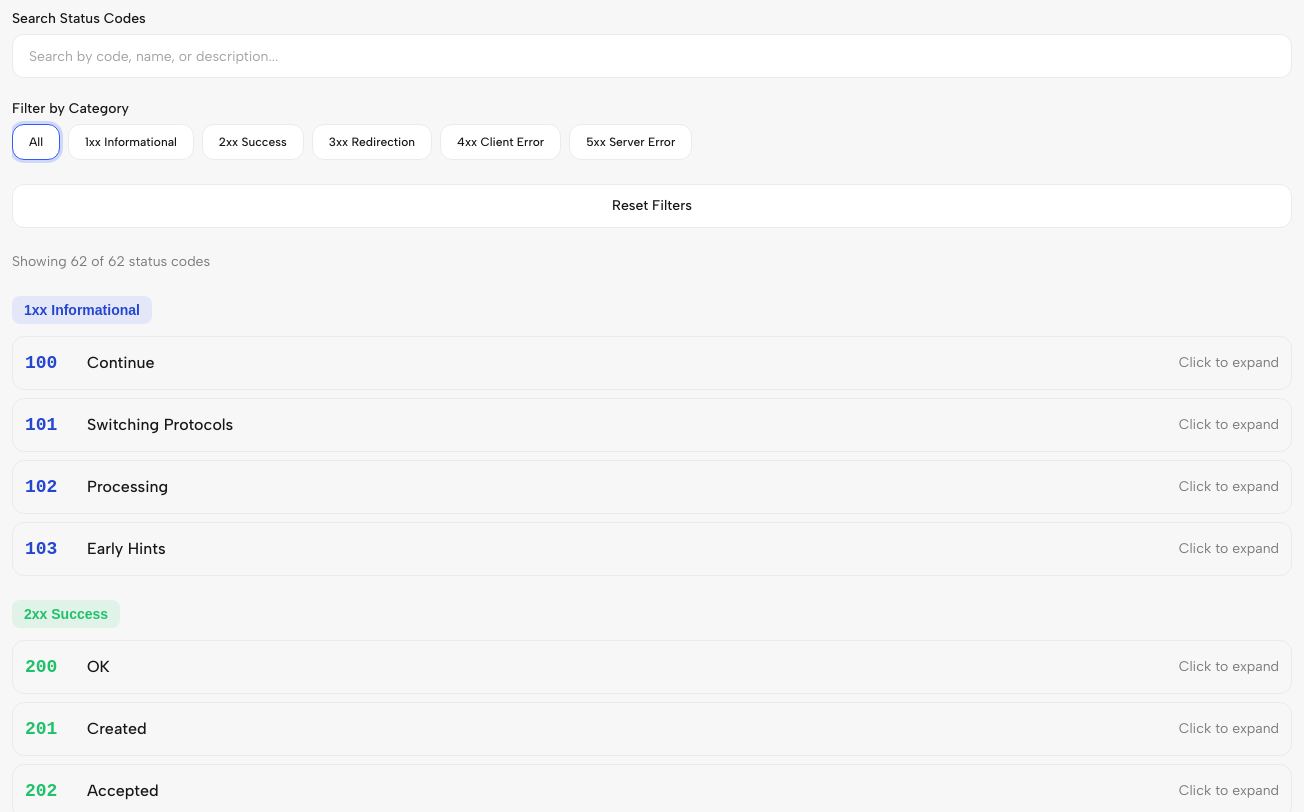
HttpStatusTool › filters by search term
Type "404" into the field with placeholder "Search by code, name, or description..." at (652, 56), box [12,34,1292,78]
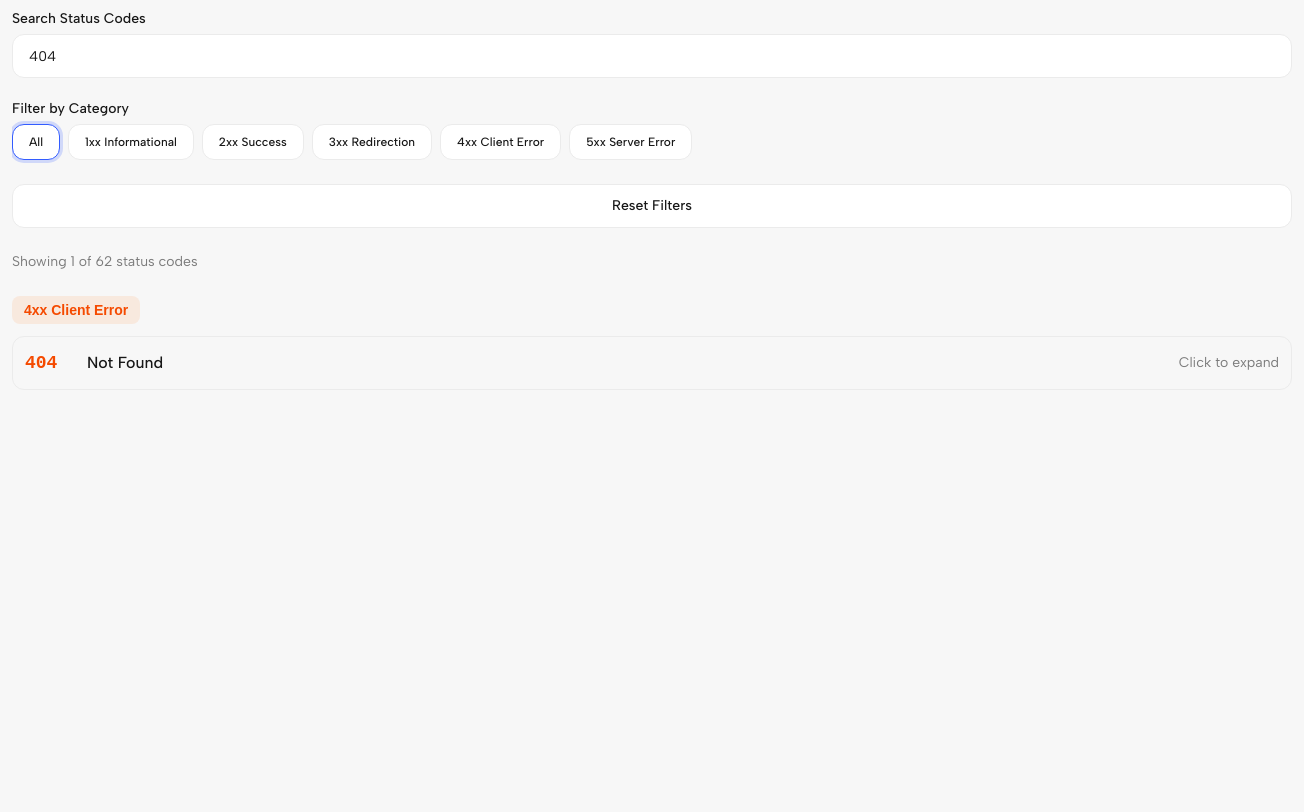
Expected: the text "404" is shown, [25,353,57,373]
Expected: the text "200" is gone
